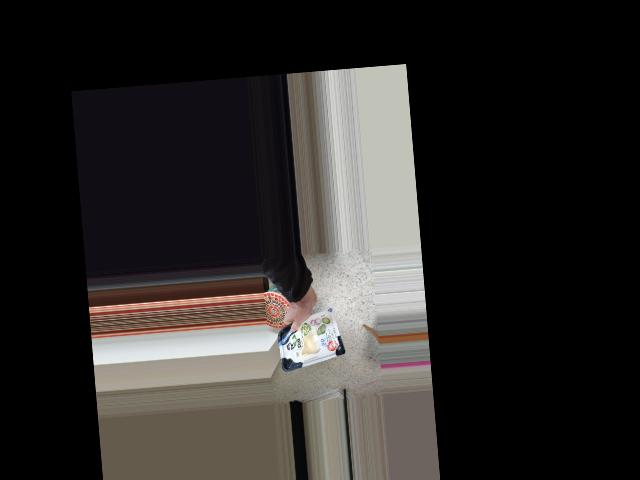cheese: (271, 313, 346, 367)
